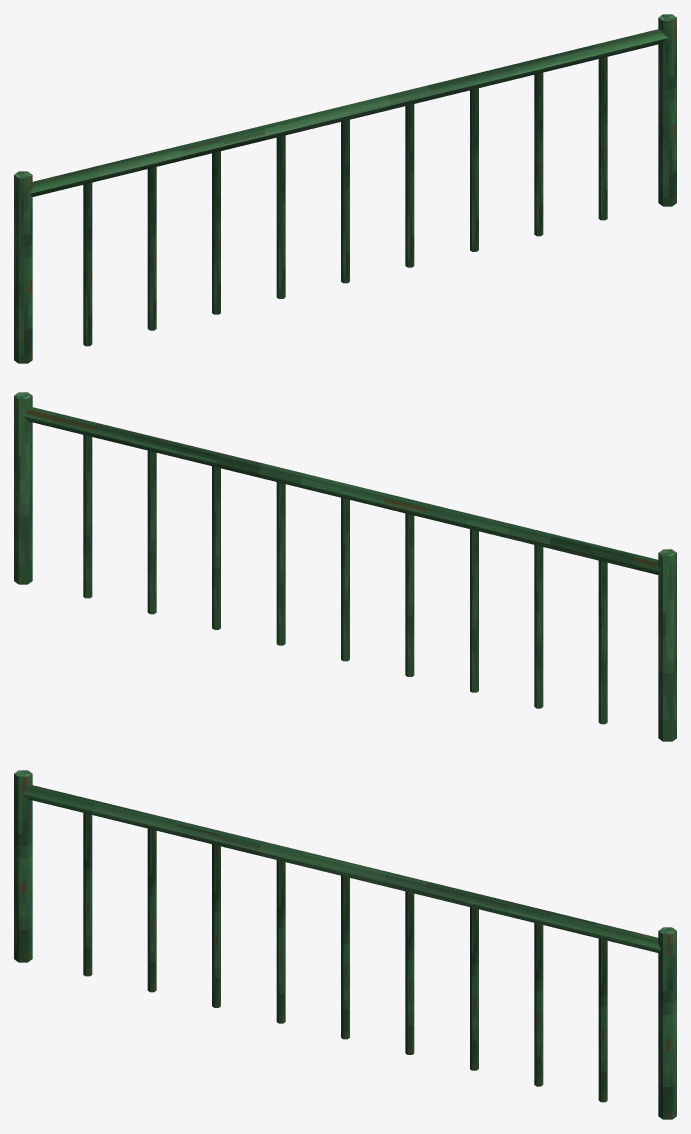
Rendered from fence_low.glb.
3 views of the same model, one above another, from view 1: azimuth 30°, elevation 25°; view 2: azimuth 150°, elevation 25°; view 3: azimuth 330°, elevation 25° (orthographic).
Parts seen in each view (by area): view 1: fence_low; view 2: fence_low; view 3: fence_low.
Boxes of the visible parts, x1,y1,x2,y2 form: fence_low: [14, 14, 676, 363]; fence_low: [14, 392, 676, 741]; fence_low: [14, 770, 676, 1119].
Bounding box in the file's own units: 2.04 × 0.55 × 0.05.
